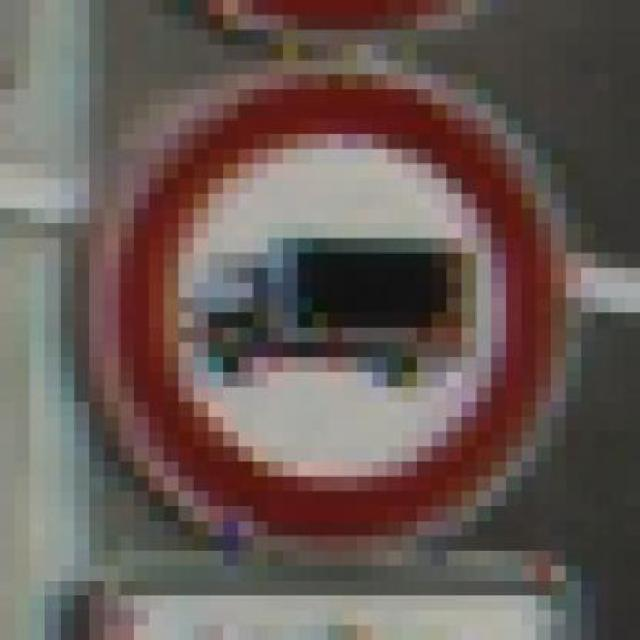Truck traffic is prohibited: (59, 59, 581, 596)
